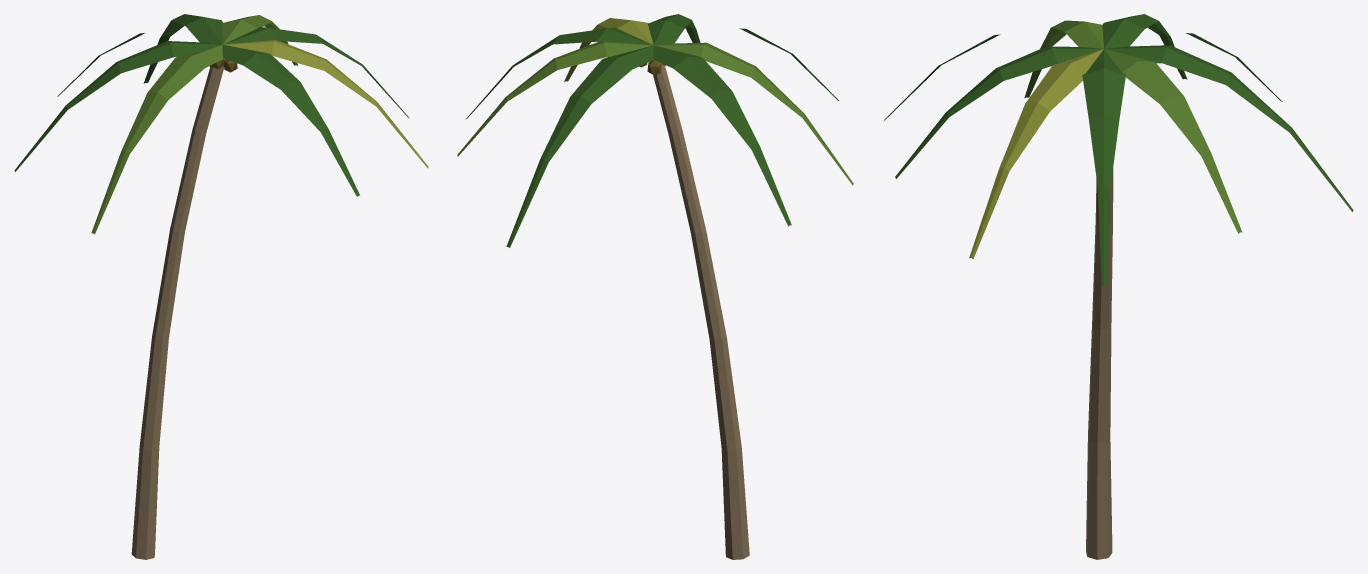
The model's file is coqueiro.glb.
3 renders of one model, left to right at view 1: azimuth 30°, elevation 25°; view 2: azimuth 150°, elevation 25°; view 3: azimuth 270°, elevation 25°, orthographic. The views are drawn at different scales.
Visible parts, largest first — view 1: coqueiro; view 2: coqueiro; view 3: coqueiro.
Boxes of the visible parts, x1=… form: coqueiro: x1=14, y1=14, x2=428, y2=559; coqueiro: x1=457, y1=14, x2=853, y2=559; coqueiro: x1=884, y1=14, x2=1353, y2=559.
Size of the model in its own units: 8.85 by 11.67 by 8.95.
